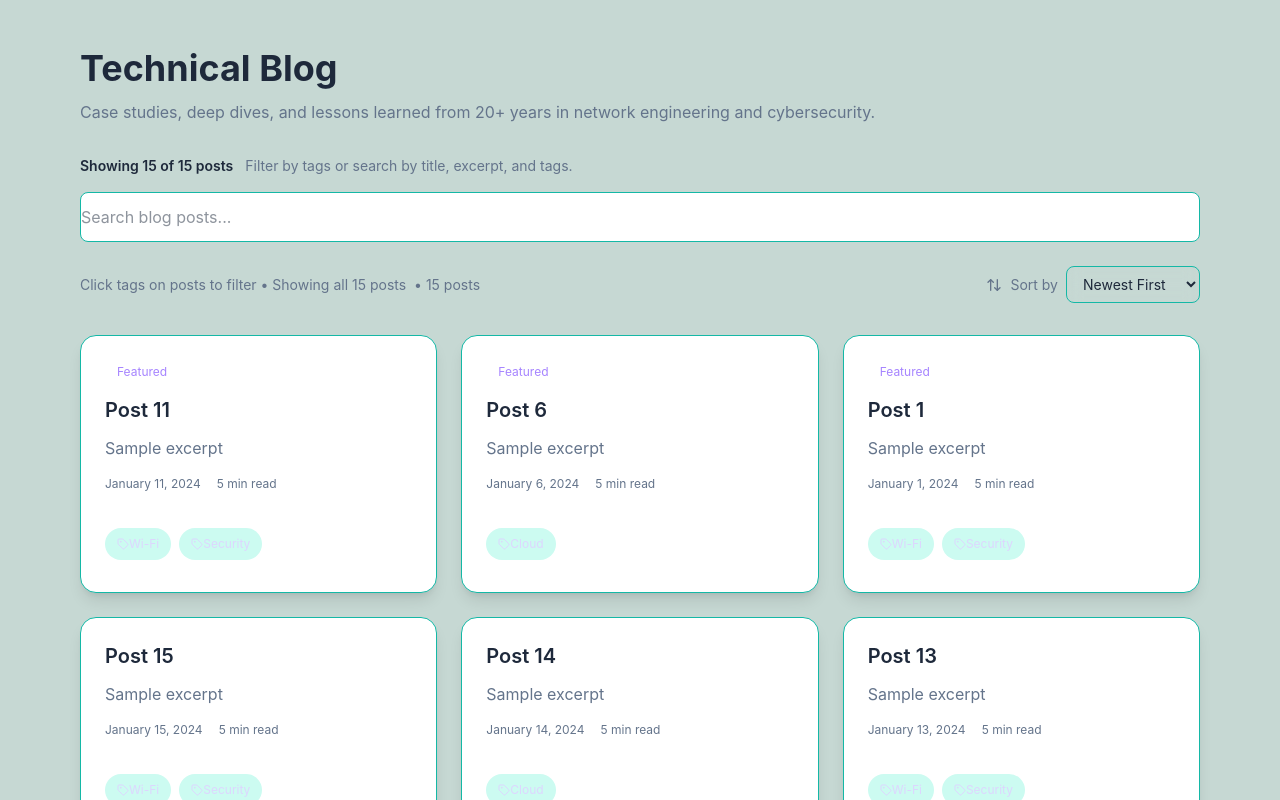
Test case: Blog › toggles tag filter when same tag is clicked twice
Expected: the heading "Technical Blog" is shown, [80, 46, 338, 90]
# First click - add filter
Click the button "Wi-Fi" below "January 11, 2024" at [138, 544], box [105, 528, 171, 560]
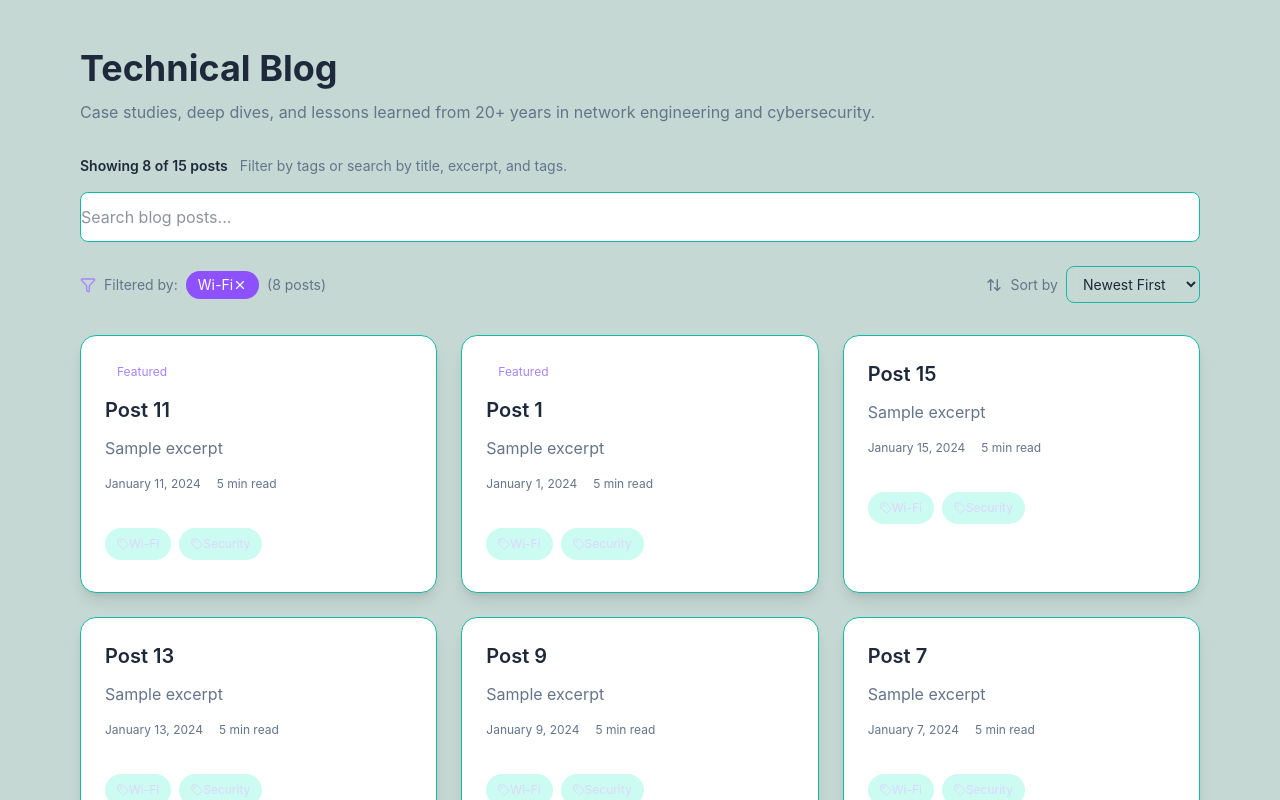
Expected: the text "Filtered by:" is shown, [104, 274, 178, 294]
# Click same tag again to remove filter
Click the button with aria-label "remove filter" at [222, 284], box [186, 270, 259, 298]
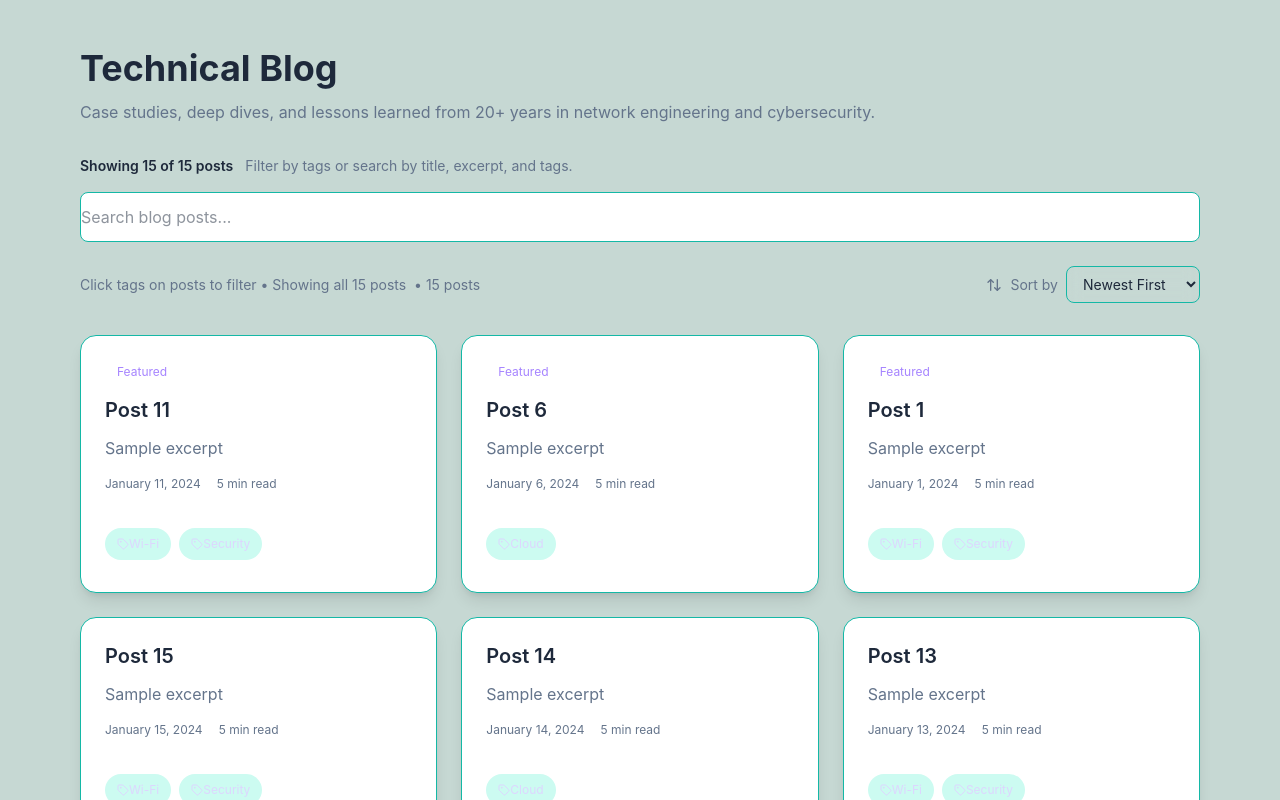
Expected: the text "Click tags on posts to filter • Showing all 15 posts" is shown, [80, 274, 406, 294]
